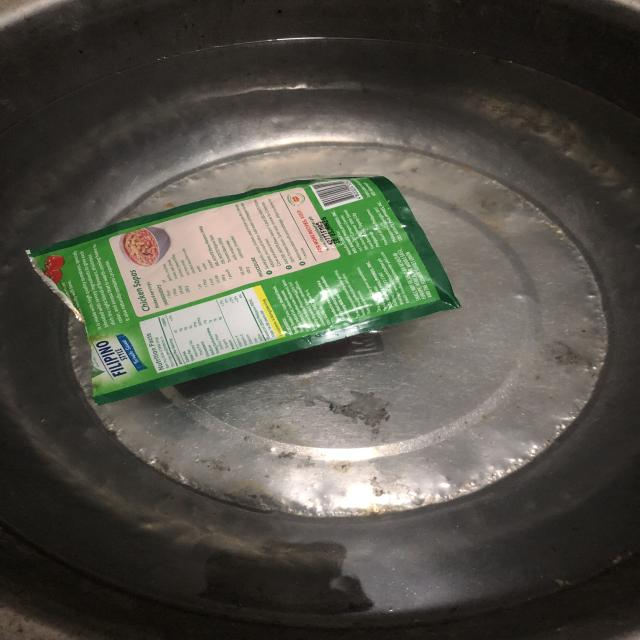Plastic Pouch: (11, 172, 468, 394)
